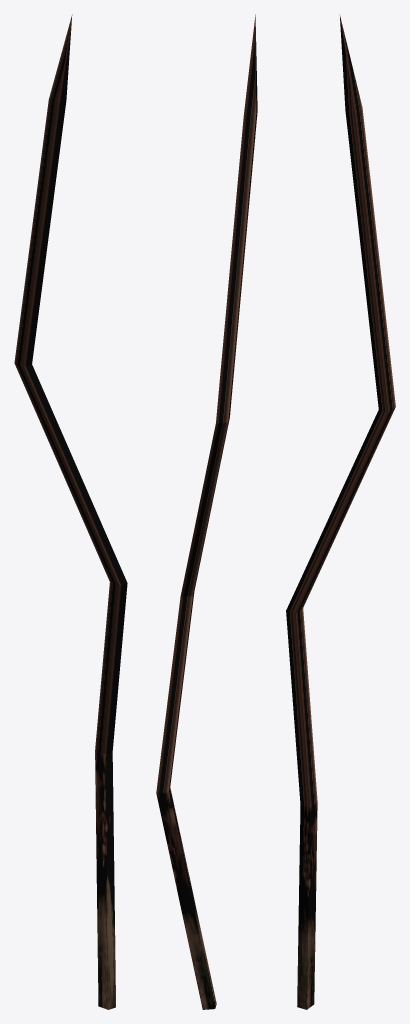
Rendered from H1_YPl_Trunk.gltf.
The picture shows the model from 3 angles, left to right: view 1: azimuth 90°, elevation 25°; view 2: azimuth 210°, elevation 25°; view 3: azimuth 270°, elevation 25°; orthographic projection. The views are drawn at different scales.
Parts seen in each view (by area): view 1: H1_YPl_Trunk; view 2: H1_YPl_Trunk; view 3: H1_YPl_Trunk.
Part boxes in pixels (x1,y1,x2,y2): H1_YPl_Trunk: (14, 14, 127, 1009); H1_YPl_Trunk: (156, 14, 257, 1009); H1_YPl_Trunk: (286, 14, 395, 1009).
Size of the model in its own units: 0.5979 by 6.79 by 0.6903.
Materials: 1 (1 with a texture image).
